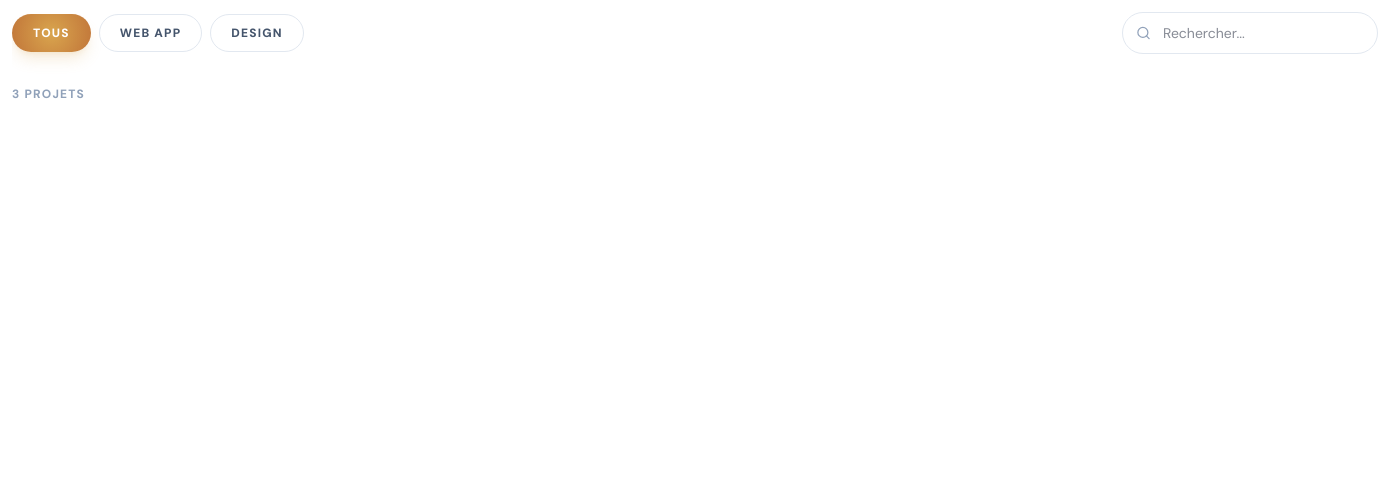
ProjectGrid › affiche un état vide quand aucun projet ne correspond
Type "inexistant" into the field with placeholder "Rechercher..." at (1250, 33), box 1122,12 -> 1378,54
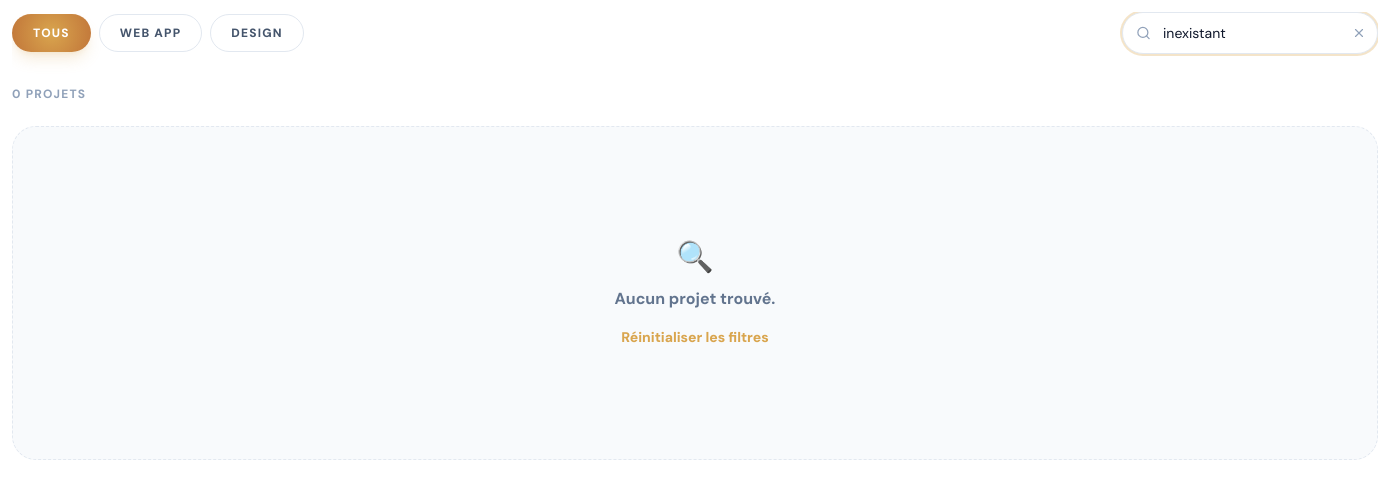
expect the text "Aucun projet trouvé." is shown: met, box 615,287 -> 775,311
